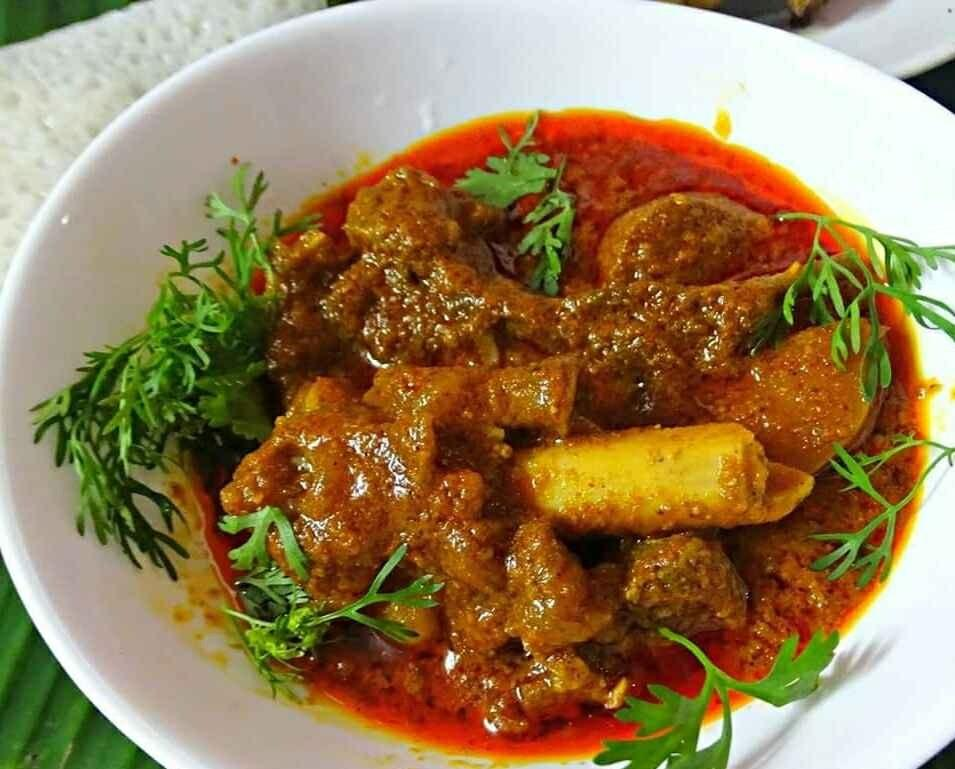MuttonCurry: (200, 110, 926, 739)
